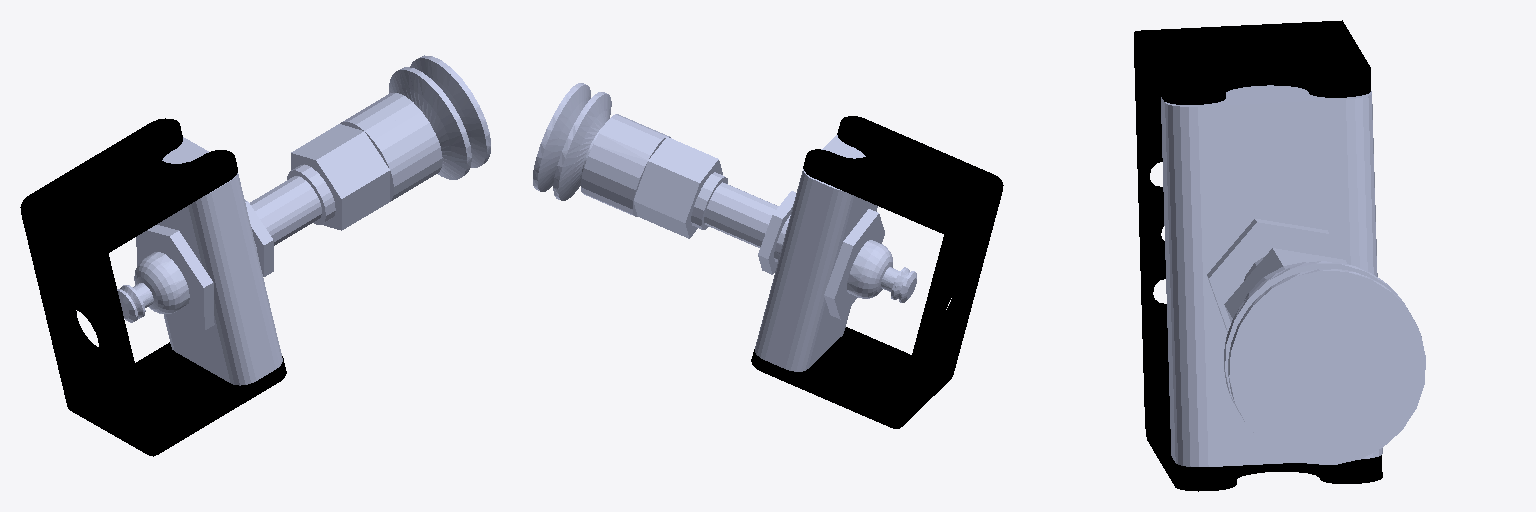
URDF robot description (left arm assembly with suction gripper):
<?xml version="1.0" encoding="utf-8"?>
<!-- This URDF was automatically created by SolidWorks to URDF Exporter! Originally created by [author] ([email redacted]) 
     Commit Version: 1.6.0-4-g7f85cfe  Build Version: 1.6.7995.38578
     For more information, please see http://wiki.ros.org/sw_urdf_exporter -->
<robot
  name="left arm assembly with suction gripper">
  <link
    name="base_link">
    <inertial>
      <origin
        xyz="-0.00350315836373187 1.06356984554377E-05 0.0214871579373744"
        rpy="0 0 0" />
      <mass
        value="0.0131045219761913" />
      <inertia
        ixx="4.34361970915028E-06"
        ixy="-8.70743295887151E-10"
        ixz="-1.55795588839868E-08"
        iyy="3.95359628277592E-06"
        iyz="6.29841632276515E-12"
        izz="2.55913550058721E-06" />
    </inertial>
    <visual>
      <origin
        xyz="0 0 0"
        rpy="0 0 0" />
      <geometry>
        <mesh
          filename="package://left arm assembly with suction gripper/meshes/base_link.STL" />
      </geometry>
      <material
        name="">
        <color
          rgba="0.792156862745098 0.819607843137255 0.933333333333333 1" />
      </material>
    </visual>
    <collision>
      <origin
        xyz="0 0 0"
        rpy="0 0 0" />
      <geometry>
        <mesh
          filename="package://left arm assembly with suction gripper/meshes/base_link.STL" />
      </geometry>
    </collision>
  </link>
  <link
    name="shoulder_motor_link">
    <inertial>
      <origin
        xyz="-0.0130238771425404 1.44546689873071E-06 -0.0182831079509093"
        rpy="0 0 0" />
      <mass
        value="0.0339076301202396" />
      <inertia
        ixx="2.05435456932193E-06"
        ixy="1.02463951456412E-09"
        ixz="5.95632141631701E-08"
        iyy="5.99935663007104E-06"
        iyz="4.35282688066523E-10"
        izz="7.3215393629638E-06" />
    </inertial>
    <visual>
      <origin
        xyz="0 0 0"
        rpy="0 0 0" />
      <geometry>
        <mesh
          filename="package://left arm assembly with suction gripper/meshes/shoulder_motor_link.STL" />
      </geometry>
      <material
        name="">
        <color
          rgba="0.6 0.6 0.6 1" />
      </material>
    </visual>
    <collision>
      <origin
        xyz="0 0 0"
        rpy="0 0 0" />
      <geometry>
        <mesh
          filename="package://left arm assembly with suction gripper/meshes/shoulder_motor_link.STL" />
      </geometry>
    </collision>
  </link>
  <joint
    name="shoudler_motor_joint"
    type="fixed">
    <origin
      xyz="0.0250495307078394 -3.15188165906991E-05 0.0401387838837576"
      rpy="0 0 0" />
    <parent
      link="base_link" />
    <child
      link="shoulder_motor_link" />
    <axis
      xyz="0 0 0" />
  </joint>
  <link
    name="shoulder_link">
    <inertial>
      <origin
        xyz="-0.000407496964707939 5.24581642142447E-07 -0.0471396986796234"
        rpy="0 0 0" />
      <mass
        value="0.0146449319488736" />
      <inertia
        ixx="3.82645896476309E-06"
        ixy="1.53518045320358E-07"
        ixz="3.88844706608963E-09"
        iyy="2.51126250441366E-06"
        iyz="-1.3088547662894E-09"
        izz="4.23742597235457E-06" />
    </inertial>
    <visual>
      <origin
        xyz="0 0 0"
        rpy="0 0 0" />
      <geometry>
        <mesh
          filename="package://left arm assembly with suction gripper/meshes/shoulder_link.STL" />
      </geometry>
      <material
        name="">
        <color
          rgba="0.666666666666667 0.698039215686274 0.768627450980392 1" />
      </material>
    </visual>
    <collision>
      <origin
        xyz="0 0 0"
        rpy="0 0 0" />
      <geometry>
        <mesh
          filename="package://left arm assembly with suction gripper/meshes/shoulder_link.STL" />
      </geometry>
    </collision>
  </link>
  <joint
    name="shoulder_joint"
    type="continuous">
    <origin
      xyz="0 0 0"
      rpy="0 0 0" />
    <parent
      link="shoulder_motor_link" />
    <child
      link="shoulder_link" />
    <axis
      xyz="-0.00872653549837375 0 -0.999961923064172" />
  </joint>
  <link
    name="deltoid_motor_link">
    <inertial>
      <origin
        xyz="0.000150864332334175 0.0174534805321616 0.0128635534321402"
        rpy="0 0 0" />
      <mass
        value="0.033907629670835" />
      <inertia
        ixx="5.99944957970211E-06"
        ixy="1.10990659498675E-08"
        ixz="9.01999024052376E-10"
        iyy="7.32208428853435E-06"
        iyz="-1.36794703535408E-08"
        izz="2.05371652943078E-06" />
    </inertial>
    <visual>
      <origin
        xyz="0 0 0"
        rpy="0 0 0" />
      <geometry>
        <mesh
          filename="package://left arm assembly with suction gripper/meshes/deltoid_motor_link.STL" />
      </geometry>
      <material
        name="">
        <color
          rgba="0.6 0.6 0.6 1" />
      </material>
    </visual>
    <collision>
      <origin
        xyz="0 0 0"
        rpy="0 0 0" />
      <geometry>
        <mesh
          filename="package://left arm assembly with suction gripper/meshes/deltoid_motor_link.STL" />
      </geometry>
    </collision>
  </link>
  <joint
    name="deltoid_motor_joint"
    type="fixed">
    <origin
      xyz="0.00125192169092746 -0.0168373829098358 -0.0800783097554347"
      rpy="0.00107419573743687 0.00693152129937256 0.123408122562873" />
    <parent
      link="shoulder_link" />
    <child
      link="deltoid_motor_link" />
    <axis
      xyz="0 0 0" />
  </joint>
  <link
    name="deltoid_link">
    <inertial>
      <origin
        xyz="0.0561078238324793 0.0169280393721852 0.0450816189518283"
        rpy="0 0 0" />
      <mass
        value="0.0710702921940885" />
      <inertia
        ixx="1.5268670070304E-05"
        ixy="-2.56847686288861E-07"
        ixz="-3.43267066252E-06"
        iyy="1.44071154904417E-05"
        iyz="-9.3536456434193E-08"
        izz="1.67678692653827E-05" />
    </inertial>
    <visual>
      <origin
        xyz="0 0 0"
        rpy="0 0 0" />
      <geometry>
        <mesh
          filename="package://left arm assembly with suction gripper/meshes/deltoid_link.STL" />
      </geometry>
      <material
        name="">
        <color
          rgba="0.666666666666667 0.698039215686274 0.768627450980392 1" />
      </material>
    </visual>
    <collision>
      <origin
        xyz="0 0 0"
        rpy="0 0 0" />
      <geometry>
        <mesh
          filename="package://left arm assembly with suction gripper/meshes/deltoid_link.STL" />
      </geometry>
    </collision>
  </link>
  <joint
    name="deltoid_joint"
    type="continuous">
    <origin
      xyz="0 0 0"
      rpy="0 0 0" />
    <parent
      link="deltoid_motor_link" />
    <child
      link="deltoid_link" />
    <axis
      xyz="-0.00872653549837265 -0.999961922950372 1.5086101193145E-05" />
  </joint>
  <link
    name="forearm_motor_link">
    <inertial>
      <origin
        xyz="-0.0127110305283054 0.0175655291343444 -1.71229021177222E-06"
        rpy="0 0 0" />
      <mass
        value="0.0339076312331745" />
      <inertia
        ixx="2.05435483653573E-06"
        ixy="5.95632163786679E-08"
        ixz="-1.02554981086073E-09"
        iyy="7.32153956073325E-06"
        iyz="-4.55244680277536E-10"
        izz="5.99935669564406E-06" />
    </inertial>
    <visual>
      <origin
        xyz="0 0 0"
        rpy="0 0 0" />
      <geometry>
        <mesh
          filename="package://left arm assembly with suction gripper/meshes/forearm_motor_link.STL" />
      </geometry>
      <material
        name="">
        <color
          rgba="0.6 0.6 0.6 1" />
      </material>
    </visual>
    <collision>
      <origin
        xyz="0 0 0"
        rpy="0 0 0" />
      <geometry>
        <mesh
          filename="package://left arm assembly with suction gripper/meshes/forearm_motor_link.STL" />
      </geometry>
    </collision>
  </link>
  <joint
    name="forearm_motor_joint"
    type="fixed">
    <origin
      xyz="0.112022284987381 -0.000582076559940196 0.0902650079093743"
      rpy="-0.00705925968502346 -0.679848014235928 0.00250719695359604" />
    <parent
      link="deltoid_link" />
    <child
      link="forearm_motor_link" />
    <axis
      xyz="0 0 0" />
  </joint>
  <link
    name="forearm_link">
    <inertial>
      <origin
        xyz="0.0479880896465921 0.0169973988307247 -0.0536211630209928"
        rpy="0 0 0" />
      <mass
        value="0.0710703697522526" />
      <inertia
        ixx="1.64169959255092E-05"
        ixy="-1.5342948001505E-07"
        ixz="3.4914256414623E-06"
        iyy="1.44052462847952E-05"
        iyz="2.12277286599829E-07"
        izz="1.56214792459402E-05" />
    </inertial>
    <visual>
      <origin
        xyz="0 0 0"
        rpy="0 0 0" />
      <geometry>
        <mesh
          filename="package://left arm assembly with suction gripper/meshes/forearm_link.STL" />
      </geometry>
      <material
        name="">
        <color
          rgba="0.792156862745098 0.819607843137255 0.933333333333333 1" />
      </material>
    </visual>
    <collision>
      <origin
        xyz="0 0 0"
        rpy="0 0 0" />
      <geometry>
        <mesh
          filename="package://left arm assembly with suction gripper/meshes/forearm_link.STL" />
      </geometry>
    </collision>
  </link>
  <joint
    name="forearm_joint"
    type="continuous">
    <origin
      xyz="0 0 0"
      rpy="0 0 0" />
    <parent
      link="forearm_motor_link" />
    <child
      link="forearm_link" />
    <axis
      xyz="-0.00872653549837449 -0.999961922950372 1.50861011923729E-05" />
  </joint>
  <link
    name="wrist_motor_link">
    <inertial>
      <origin
        xyz="-0.0127110312181783 0.0175648735080408 0.000151834871326043"
        rpy="0 0 0" />
      <mass
        value="0.0339076297994024" />
      <inertia
        ixx="2.05435459609155E-06"
        ixy="5.95699163629687E-08"
        ixz="-5.0480890554938E-10"
        iyy="7.3214462124238E-06"
        iyz="1.11019650485597E-08"
        izz="5.99944971351451E-06" />
    </inertial>
    <visual>
      <origin
        xyz="0 0 0"
        rpy="0 0 0" />
      <geometry>
        <mesh
          filename="package://left arm assembly with suction gripper/meshes/wrist_motor_link.STL" />
      </geometry>
      <material
        name="">
        <color
          rgba="0.6 0.6 0.6 1" />
      </material>
    </visual>
    <collision>
      <origin
        xyz="0 0 0"
        rpy="0 0 0" />
      <geometry>
        <mesh
          filename="package://left arm assembly with suction gripper/meshes/wrist_motor_link.STL" />
      </geometry>
    </collision>
  </link>
  <joint
    name="wrist_motor_joint"
    type="fixed">
    <origin
      xyz="0.0957821528097735 -0.000443334245739491 -0.107343792959189"
      rpy="0.00099862903391098 0.840583196796735 0.00433957903414806" />
    <parent
      link="forearm_link" />
    <child
      link="wrist_motor_link" />
    <axis
      xyz="0 0 0" />
  </joint>
  <link
    name="wrist_link">
    <inertial>
      <origin
        xyz="0.0466663963248519 0.0168768366710255 0.0206296530657161"
        rpy="0 0 0" />
      <mass
        value="0.0424602918209508" />
      <inertia
        ixx="9.42028039170047E-06"
        ixy="-6.70187739565601E-08"
        ixz="-1.08835461712535E-05"
        iyy="3.2058732796883E-05"
        iyz="-3.98223487250764E-08"
        izz="2.93583845552867E-05" />
    </inertial>
    <visual>
      <origin
        xyz="0 0 0"
        rpy="0 0 0" />
      <geometry>
        <mesh
          filename="package://left arm assembly with suction gripper/meshes/wrist_link.STL" />
      </geometry>
      <material
        name="">
        <color
          rgba="0.666666666666667 0.698039215686274 0.768627450980392 1" />
      </material>
    </visual>
    <collision>
      <origin
        xyz="0 0 0"
        rpy="0 0 0" />
      <geometry>
        <mesh
          filename="package://left arm assembly with suction gripper/meshes/wrist_link.STL" />
      </geometry>
    </collision>
  </link>
  <joint
    name="wrist_joint"
    type="continuous">
    <origin
      xyz="0 0 0"
      rpy="0 0 0" />
    <parent
      link="wrist_motor_link" />
    <child
      link="wrist_link" />
    <axis
      xyz="-0.00872653549837431 -0.99992385047757 -0.00872587097686362" />
  </joint>
  <link
    name="suction_bracket_link">
    <inertial>
      <origin
        xyz="0.00738658175553986 -2.0643209364124E-16 -2.8796409701215E-15"
        rpy="0 0 0" />
      <mass
        value="0.00388793297464768" />
      <inertia
        ixx="1.3476530808007E-06"
        ixy="9.55833453065481E-22"
        ixz="-1.07533479631894E-20"
        iyy="1.4877487924854E-06"
        iyz="-7.27275007891491E-22"
        izz="4.49288676745835E-07" />
    </inertial>
    <visual>
      <origin
        xyz="0 0 0"
        rpy="0 0 0" />
      <geometry>
        <mesh
          filename="package://left arm assembly with suction gripper/meshes/suction_bracket_link.STL" />
      </geometry>
      <material
        name="">
        <color
          rgba="0 0 0 1" />
      </material>
    </visual>
    <collision>
      <origin
        xyz="0 0 0"
        rpy="0 0 0" />
      <geometry>
        <mesh
          filename="package://left arm assembly with suction gripper/meshes/suction_bracket_link.STL" />
      </geometry>
    </collision>
  </link>
  <joint
    name="suction_bracket_joint"
    type="fixed">
    <origin
      xyz="0.0998114431861098 0.0160960016344369 0.0440321054734492"
      rpy="0.00953427957861754 -0.414732411272201 -0.0125688667027968" />
    <parent
      link="wrist_link" />
    <child
      link="suction_bracket_link" />
    <axis
      xyz="0 0 0" />
  </joint>
  <link
    name="suction_grip_holder">
    <inertial>
      <origin
        xyz="0.0230846639523238 0.00013558740555232 -0.000100000000003056"
        rpy="0 0 0" />
      <mass
        value="0.00617567701342525" />
      <inertia
        ixx="1.0162276996496E-06"
        ixy="-5.98486956235434E-11"
        ixz="-6.53803556161913E-21"
        iyy="8.41291114331174E-07"
        iyz="8.39212224975138E-23"
        izz="2.79050971511532E-07" />
    </inertial>
    <visual>
      <origin
        xyz="0 0 0"
        rpy="0 0 0" />
      <geometry>
        <mesh
          filename="package://left arm assembly with suction gripper/meshes/suction_grip_holder.STL" />
      </geometry>
      <material
        name="">
        <color
          rgba="0.792156862745098 0.819607843137255 0.933333333333333 1" />
      </material>
    </visual>
    <collision>
      <origin
        xyz="0 0 0"
        rpy="0 0 0" />
      <geometry>
        <mesh
          filename="package://left arm assembly with suction gripper/meshes/suction_grip_holder.STL" />
      </geometry>
    </collision>
  </link>
  <joint
    name="suction_grip_holder_joint"
    type="fixed">
    <origin
      xyz="0 0 0"
      rpy="0 0 0" />
    <parent
      link="suction_bracket_link" />
    <child
      link="suction_grip_holder" />
    <axis
      xyz="0 0 0" />
  </joint>
  <link
    name="suction_vacuum">
    <inertial>
      <origin
        xyz="0.0477090301286705 0.000124832807776405 -0.000100454784571852"
        rpy="0 0 0" />
      <mass
        value="0.00764427101018877" />
      <inertia
        ixx="1.91207287159457E-07"
        ixy="-3.13435352192754E-11"
        ixz="-8.31701447825635E-11"
        iyy="2.93557862318259E-06"
        iyz="-1.81839978813647E-12"
        izz="2.93558376677437E-06" />
    </inertial>
    <visual>
      <origin
        xyz="0 0 0"
        rpy="0 0 0" />
      <geometry>
        <mesh
          filename="package://left arm assembly with suction gripper/meshes/suction_vacuum.STL" />
      </geometry>
      <material
        name="">
        <color
          rgba="0.792156862745098 0.819607843137255 0.933333333333333 1" />
      </material>
    </visual>
    <collision>
      <origin
        xyz="0 0 0"
        rpy="0 0 0" />
      <geometry>
        <mesh
          filename="package://left arm assembly with suction gripper/meshes/suction_vacuum.STL" />
      </geometry>
    </collision>
  </link>
  <joint
    name="suction_vacuum_joint"
    type="fixed">
    <origin
      xyz="0 0 0"
      rpy="0 0 0" />
    <parent
      link="suction_grip_holder" />
    <child
      link="suction_vacuum" />
    <axis
      xyz="0 0 0" />
  </joint>
</robot>

--- What the picture shows (computed from the rendered views, not written in the file) ---
3 views of the same robot in one strip: view 1: azimuth 30°, elevation 25°; view 2: azimuth 150°, elevation 25°; view 3: azimuth 270°, elevation 25° (orthographic).
Robot: left arm assembly with suction gripper — 12 links, 11 joints (4 continuous, 7 fixed); root link base_link; default pose: all joints at 0.
Links seen in each view (by area): view 1: suction_bracket_link, suction_vacuum, suction_grip_holder; view 2: suction_bracket_link, suction_vacuum, suction_grip_holder; view 3: suction_grip_holder, suction_vacuum, suction_bracket_link.
Boxes of the visible links, left/top/right/bottom form: suction_bracket_link: left=20, top=118, right=286, bottom=456; suction_vacuum: left=117, top=55, right=490, bottom=330; suction_grip_holder: left=157, top=137, right=282, bottom=385; suction_bracket_link: left=751, top=116, right=1003, bottom=428; suction_vacuum: left=533, top=83, right=916, bottom=319; suction_grip_holder: left=755, top=135, right=877, bottom=371; suction_grip_holder: left=1161, top=85, right=1382, bottom=466; suction_vacuum: left=1207, top=219, right=1425, bottom=464; suction_bracket_link: left=1134, top=20, right=1382, bottom=491.
Bounding box of the posed robot: 0.0818 × 0.0294 × 0.0482 m (x, y, z).
3 mesh visuals loaded from 12 distinct referenced files (3 binary STL); not drawn: 9 (reference not matched to a file when rendering).